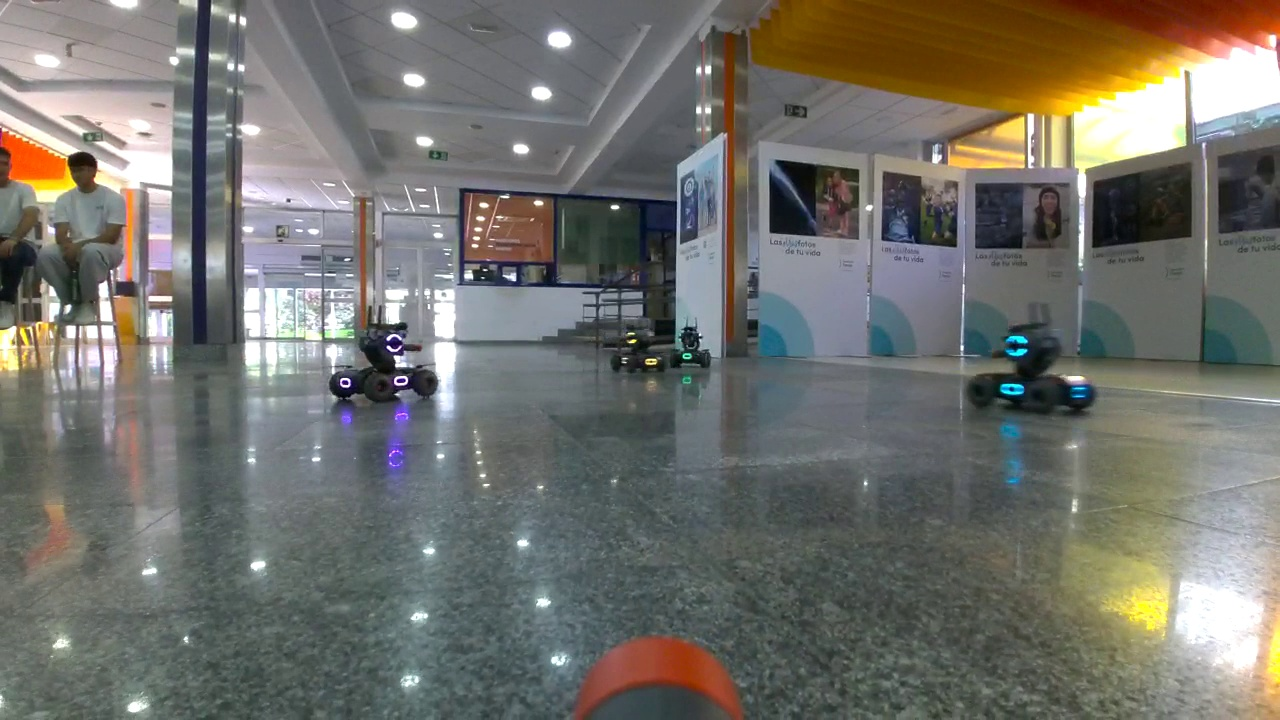robot: (969, 302, 1095, 412), (329, 305, 443, 404), (612, 321, 669, 375), (669, 316, 713, 372)
